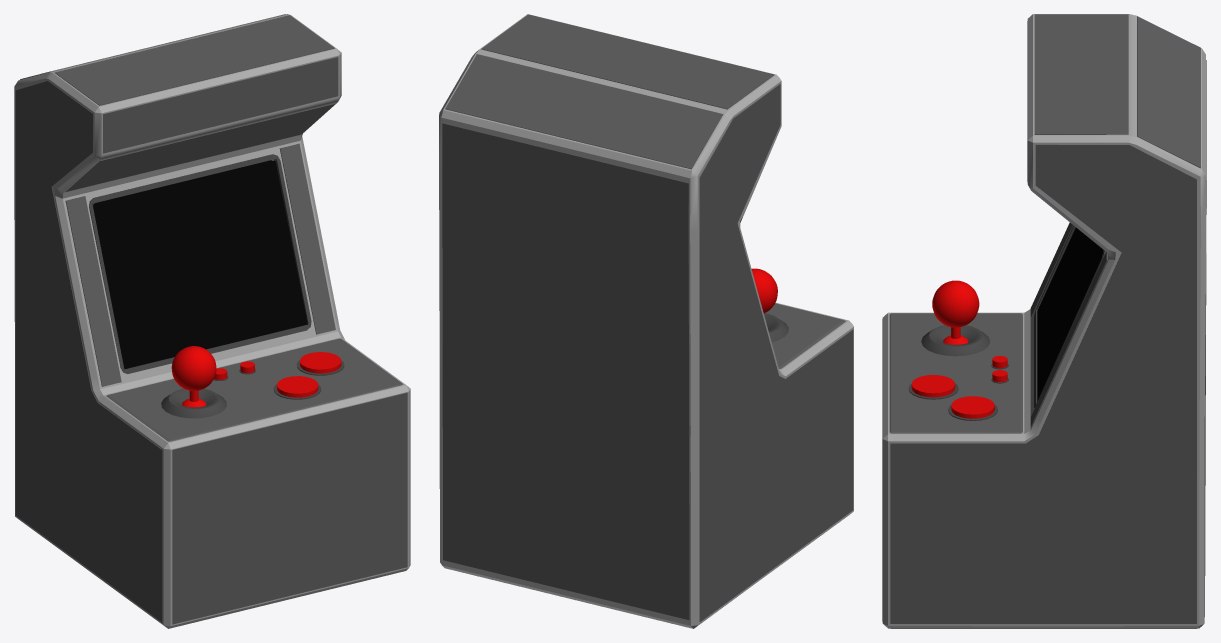
File: MiniArcadeMachine.fbx
3 renders of one model, left to right at view 1: azimuth 30°, elevation 25°; view 2: azimuth 150°, elevation 25°; view 3: azimuth 270°, elevation 25°, orthographic. The views are drawn at different scales.
Visible parts, largest first — view 1: sideFaceR, fontFace, screen, base, controlsFace, BaseTopFace, topLogoFace, topUnderFace, speakerPrintL, speakerPrintR, screenFrame, joystickTop (+3 smaller); view 2: backFace, sideFaceR, base, BaseTopSlantedFace, BaseTopFace, controlsFace, joystickTop; view 3: sideFaceL, base, controlsFace, BaseTopFace, BaseTopSlantedFace, screen, joystickTop, joystickFrameBase, speakerPrintR, screenFrame, Bbutton, Abutton (+2 smaller).
Part boxes in pixels (x1,y1,x2,y2): sideFaceR: [15, 81, 162, 622]; fontFace: [172, 392, 407, 624]; screen: [93, 160, 307, 369]; base: [14, 14, 410, 628]; controlsFace: [106, 338, 402, 441]; BaseTopFace: [54, 15, 334, 105]; topLogoFace: [103, 57, 338, 153]; topUnderFace: [66, 103, 335, 191]; speakerPrintL: [65, 196, 121, 386]; speakerPrintR: [279, 143, 335, 334]; screenFrame: [89, 154, 311, 373]; joystickTop: [171, 346, 216, 390]; backFace: [442, 123, 689, 620]; sideFaceR: [699, 84, 853, 621]; base: [439, 14, 853, 628]; BaseTopSlantedFace: [445, 54, 723, 169]; BaseTopFace: [481, 14, 774, 109]; controlsFace: [765, 303, 845, 368]; joystickTop: [751, 268, 777, 313]; sideFaceL: [890, 144, 1196, 623]; base: [882, 14, 1206, 628]; controlsFace: [889, 313, 1022, 433]; BaseTopFace: [1034, 14, 1128, 134]; BaseTopSlantedFace: [1137, 16, 1200, 168]; screen: [1037, 227, 1102, 400]; joystickTop: [932, 280, 979, 327]; joystickFrameBase: [921, 325, 990, 356]; speakerPrintR: [1030, 252, 1107, 427]; screenFrame: [1034, 225, 1105, 407]; Bbutton: [951, 396, 994, 418]; Abutton: [911, 375, 955, 397].
Size of the model in its own units: 4.28 by 7.81 by 4.64.
